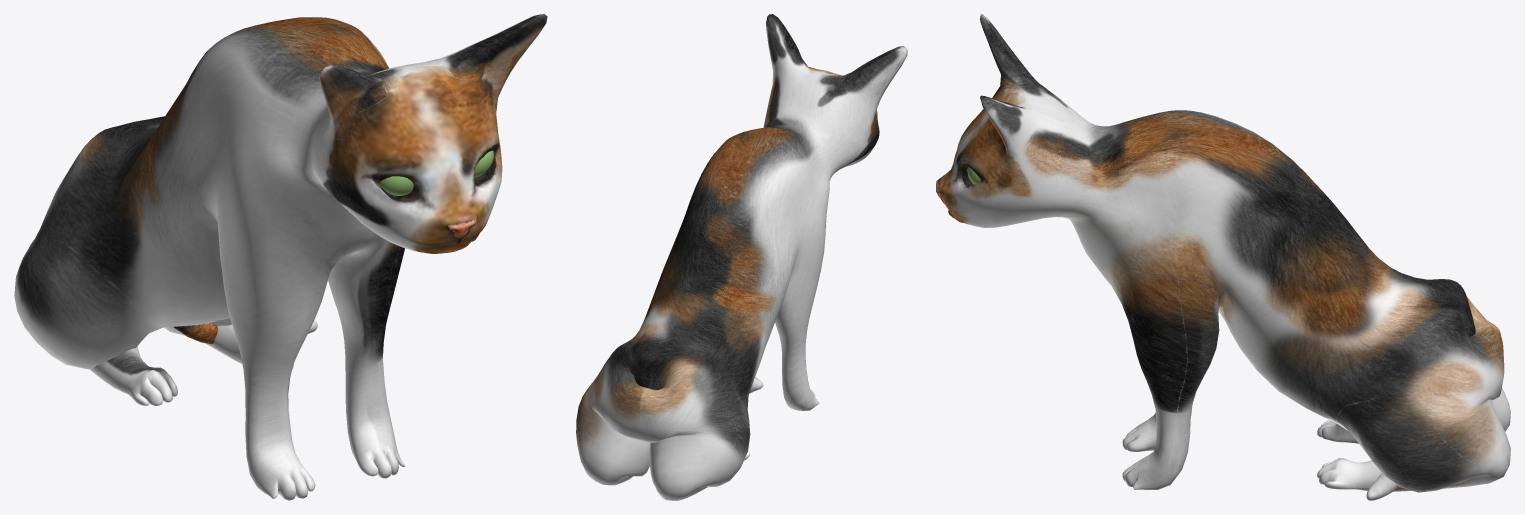
File: cat-sit.glb
3 views of the same model, side by side, from view 1: azimuth 30°, elevation 25°; view 2: azimuth 150°, elevation 25°; view 3: azimuth 270°, elevation 25° (orthographic). The views are drawn at different scales.
Parts seen in each view (by area): view 1: CatBody; view 2: CatBody; view 3: CatBody.
Part boxes in pixels (<box>): CatBody: <box>14,14,547,500</box>; CatBody: <box>576,14,907,500</box>; CatBody: <box>936,14,1510,500</box>.
Size of the model in its own units: 3.65 by 6.98 by 8.85.
2 materials, 1 textured.
